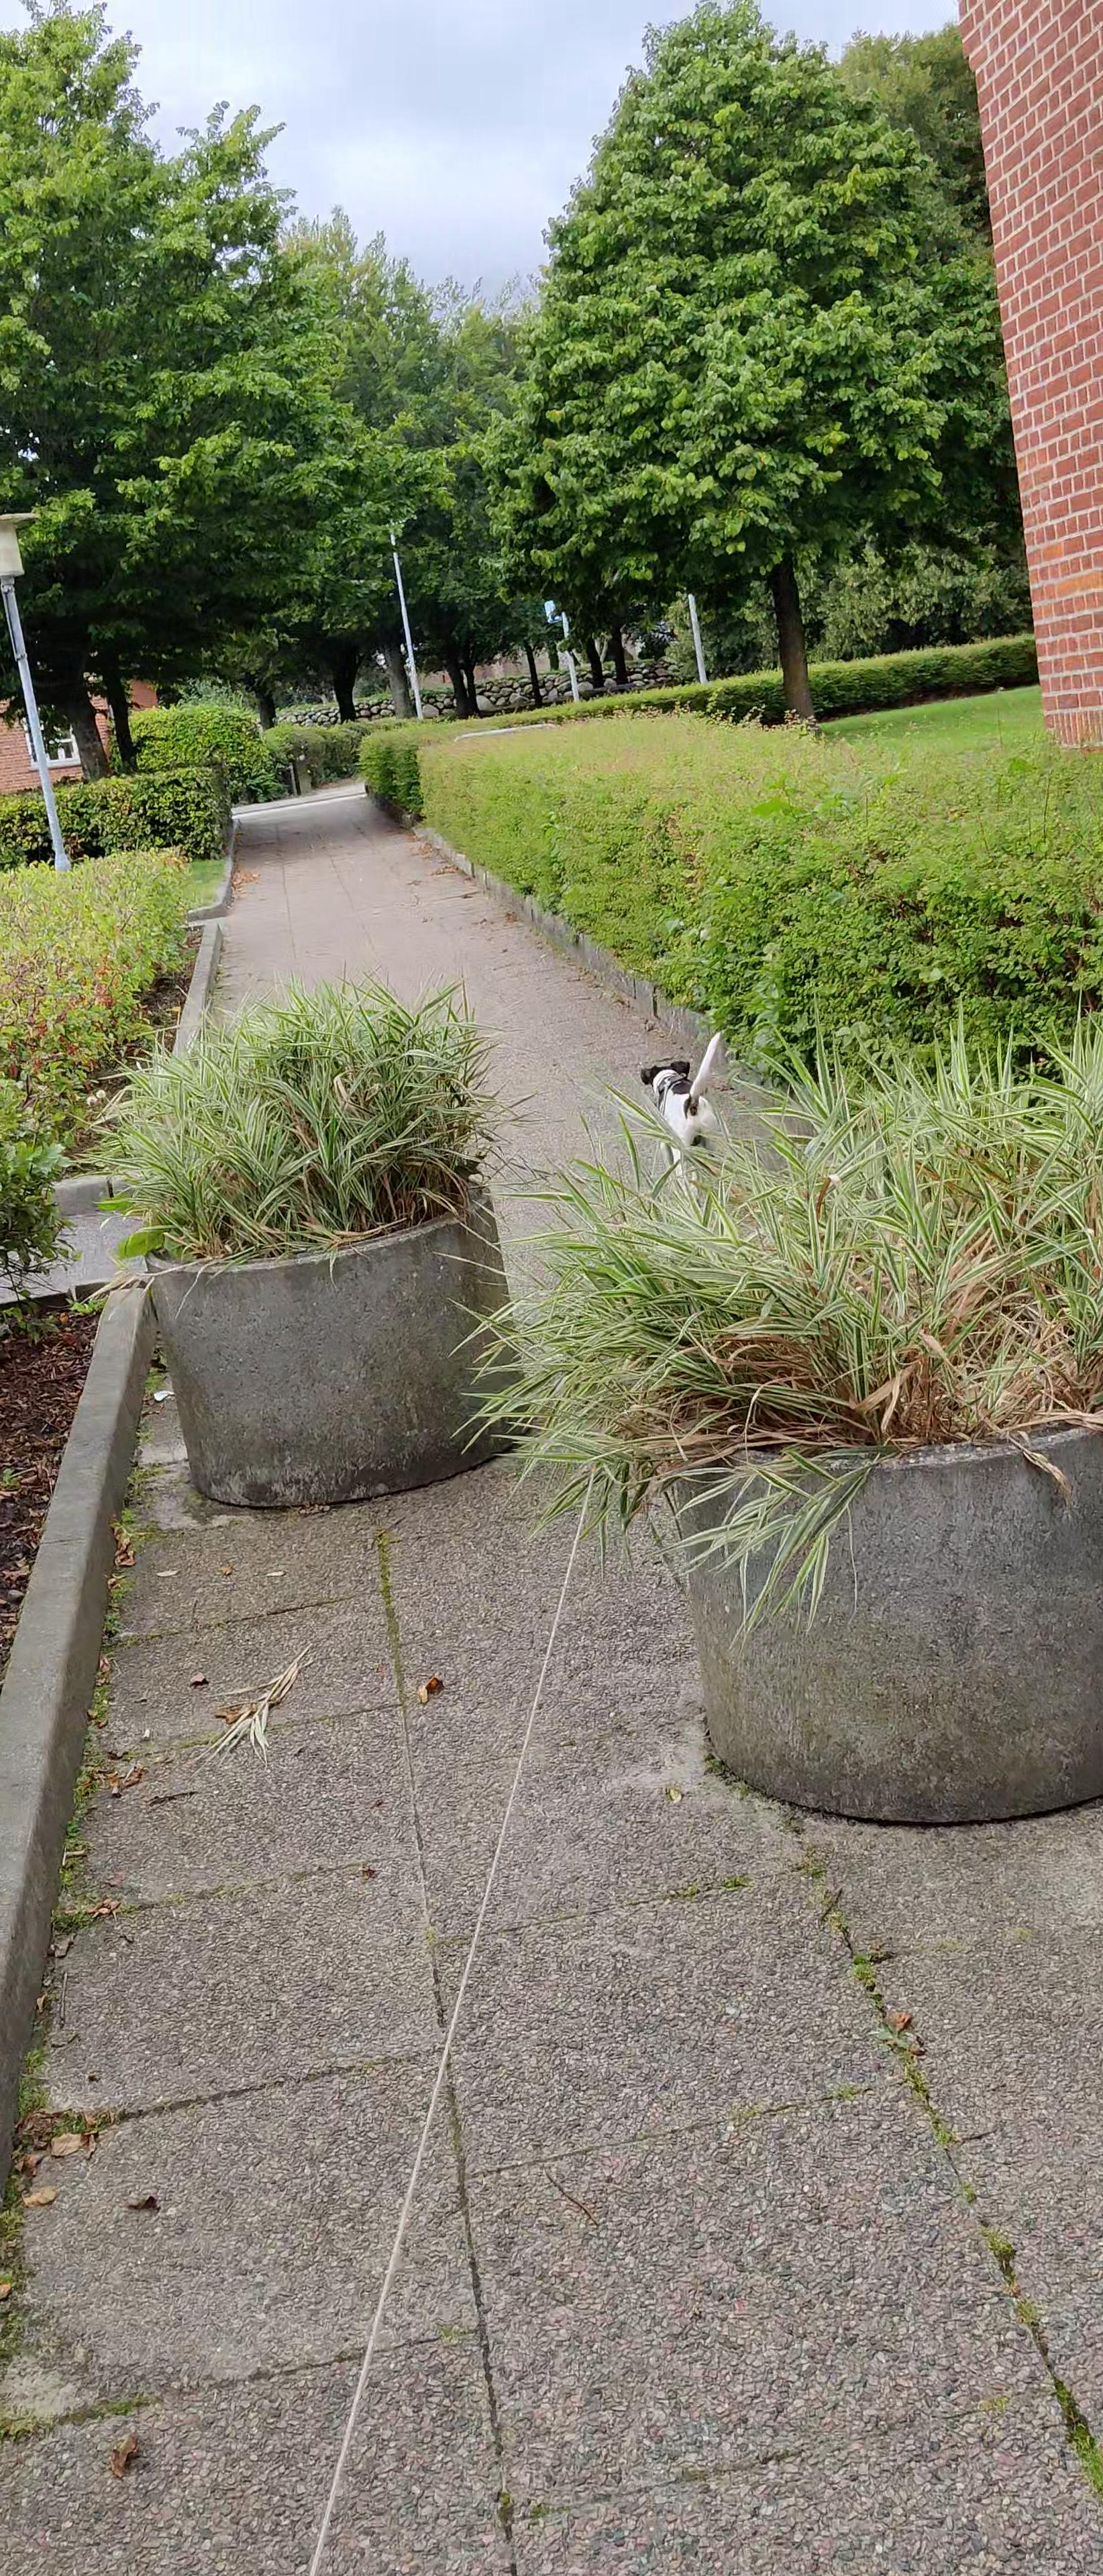Dog: (639, 1027, 730, 1194)
